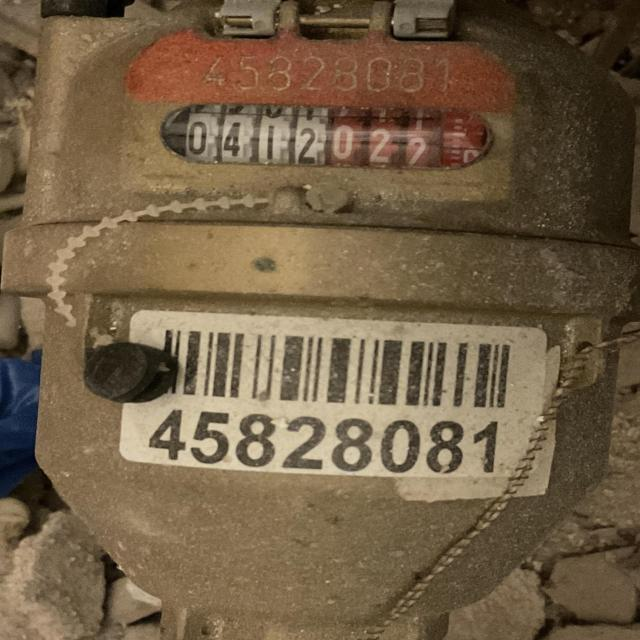gaz_meter: (38, 9, 634, 249)
indication: (177, 105, 488, 169)
